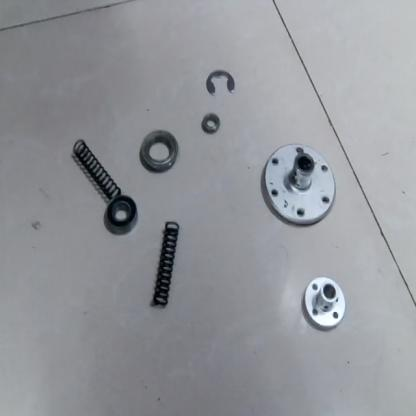FOD: (260, 136, 338, 226), (67, 136, 124, 205), (150, 218, 183, 315), (301, 278, 349, 331), (136, 126, 181, 179), (103, 193, 140, 237), (206, 68, 238, 98), (200, 111, 221, 133)
